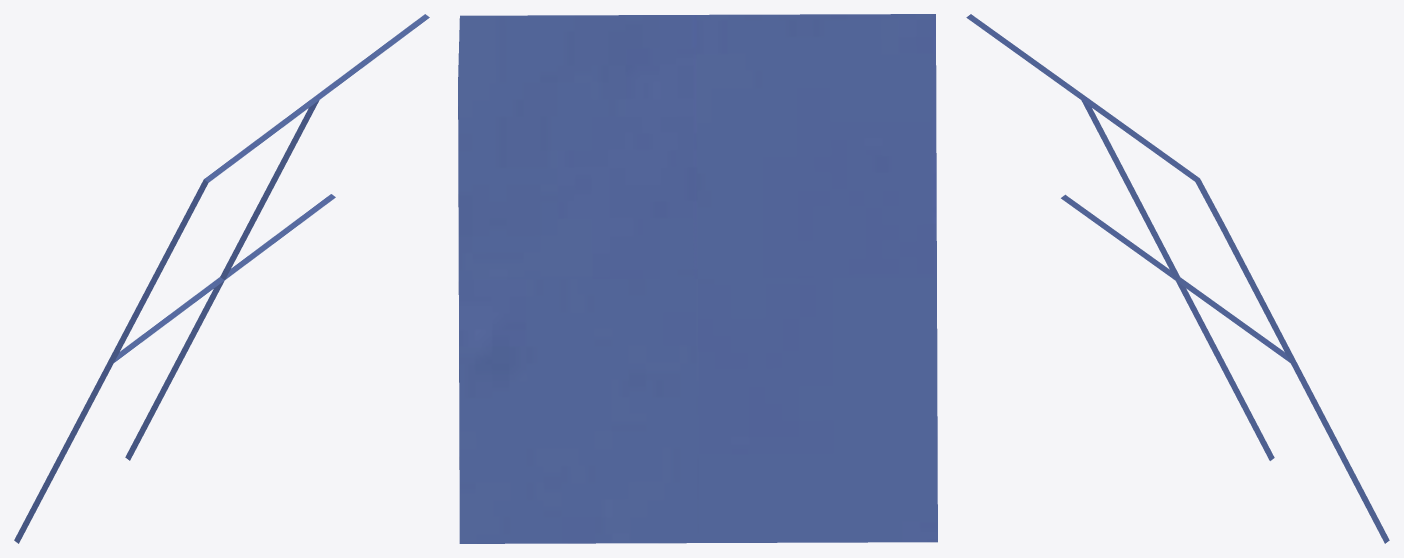
3 views of the same model, side by side, from view 1: azimuth 30°, elevation 25°; view 2: azimuth 150°, elevation 25°; view 3: azimuth 270°, elevation 25° (orthographic). The views are drawn at different scales.
Bounding box in the file's own units: 19685 × 17737 × 16579.
Materials: 1 (1 with a texture image).
